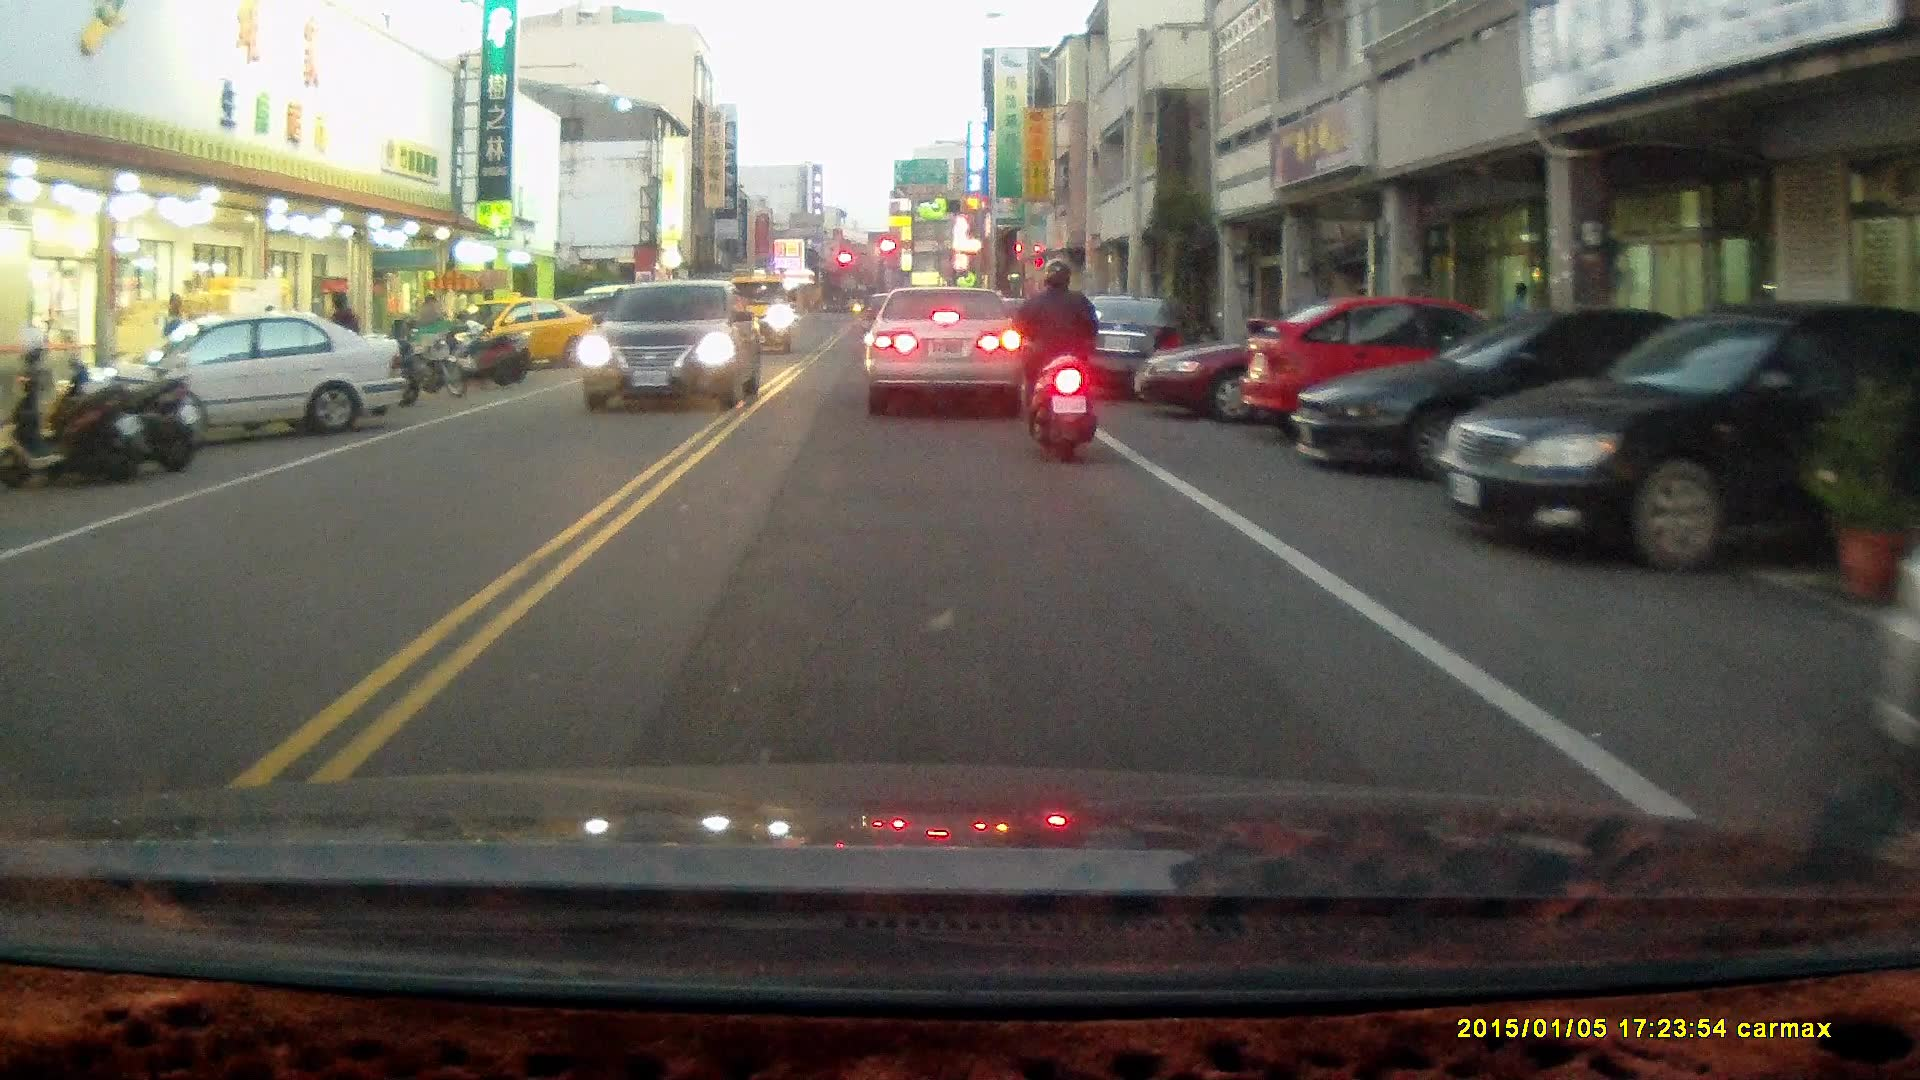pedestrian: (322, 290, 358, 388), (157, 291, 189, 365)
rider: (1007, 258, 1104, 468)
vehicle: (1436, 299, 1912, 576), (1298, 311, 1723, 490), (77, 312, 402, 454), (1235, 294, 1540, 444), (1132, 306, 1474, 432), (580, 277, 759, 414), (865, 285, 1031, 420), (1053, 295, 1192, 406), (480, 304, 605, 381)
